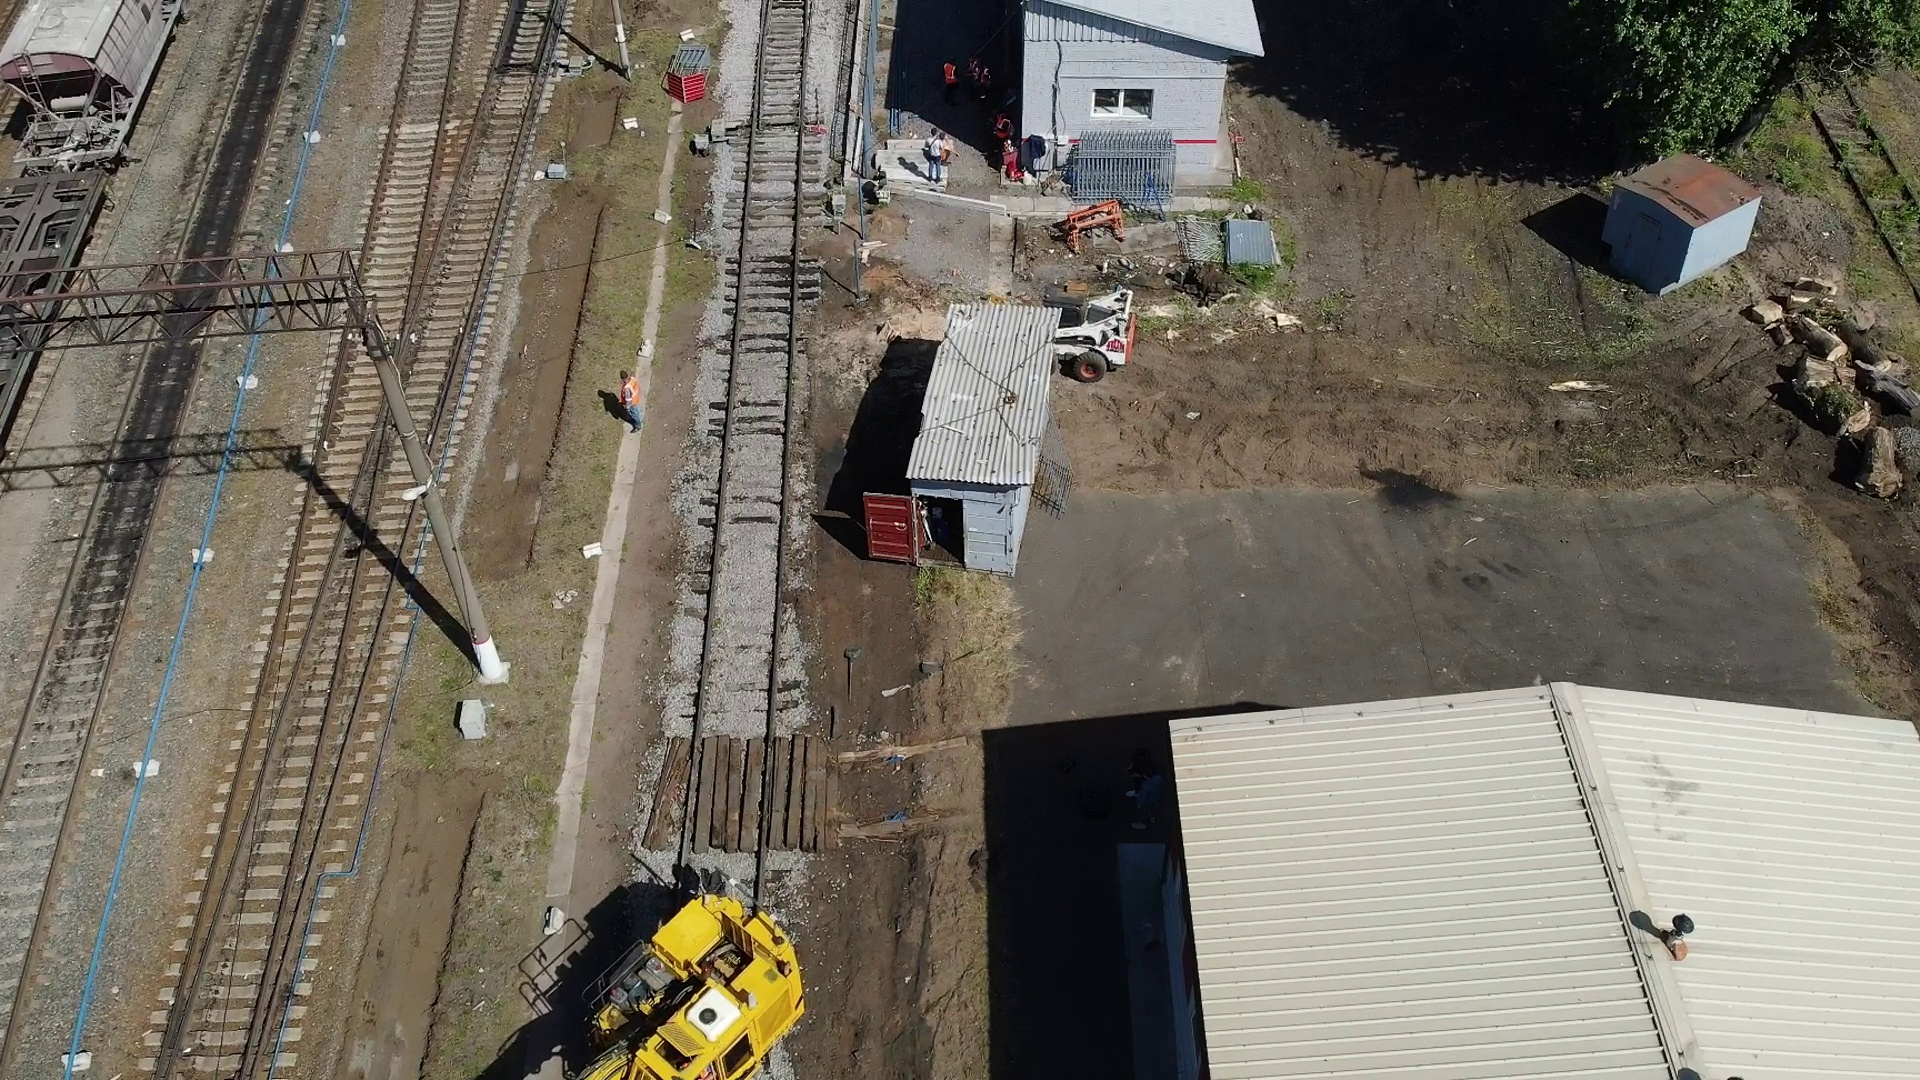kjtv: (574, 887, 808, 1080)
